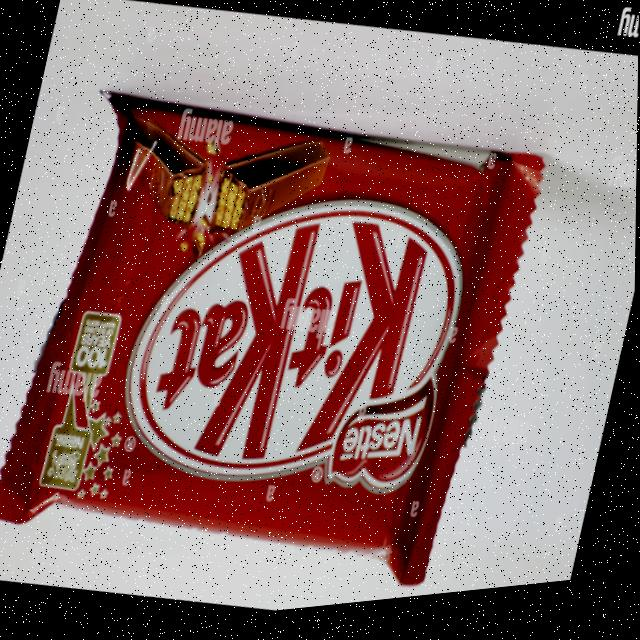kitkat: (0, 51, 555, 640)
